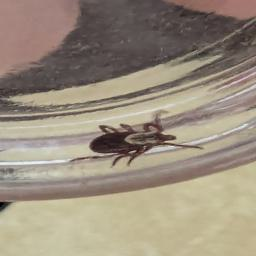Dermacentor variabilis: (71, 119, 199, 169)
